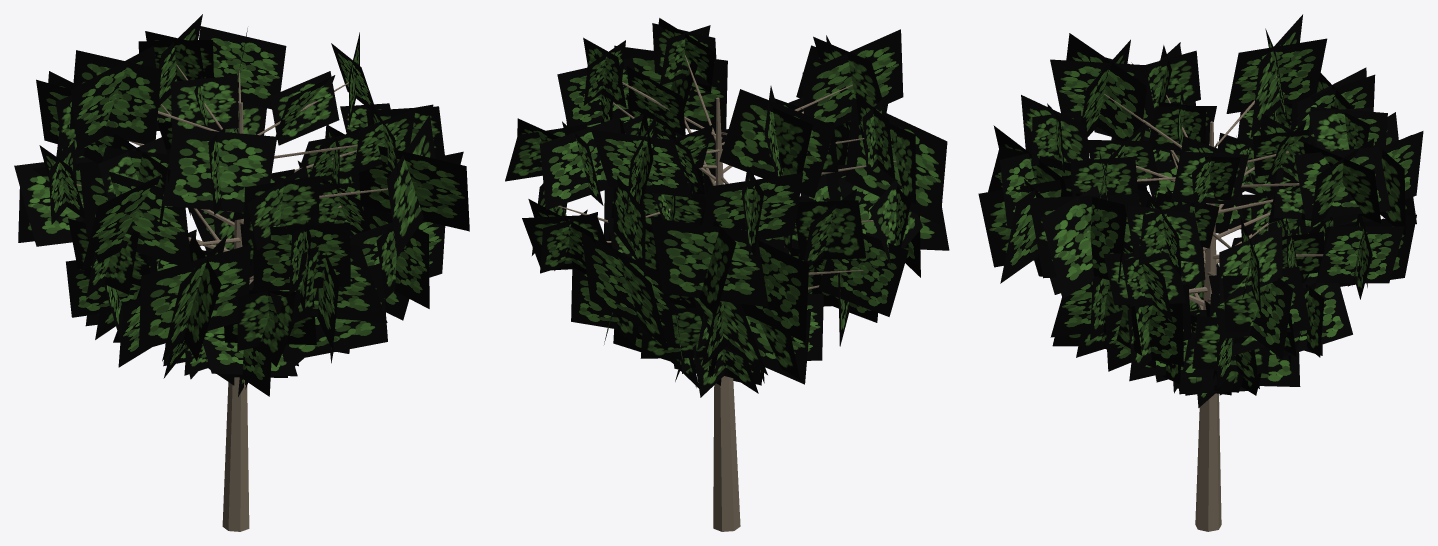
Rendered from tree_0.glb.
3 renders of one model, left to right at view 1: azimuth 30°, elevation 25°; view 2: azimuth 150°, elevation 25°; view 3: azimuth 270°, elevation 25°, orthographic. The views are drawn at different scales.
Visible parts, largest first — view 1: Oak; view 2: Oak; view 3: Oak.
Boxes of the visible parts, left/top/right/bottom form: Oak: left=14, top=14, right=469, bottom=531; Oak: left=505, top=18, right=949, bottom=531; Oak: left=978, top=14, right=1423, bottom=531.
Size of the model in its own units: 8.36 by 10 by 8.92.
2 materials, 1 textured.
